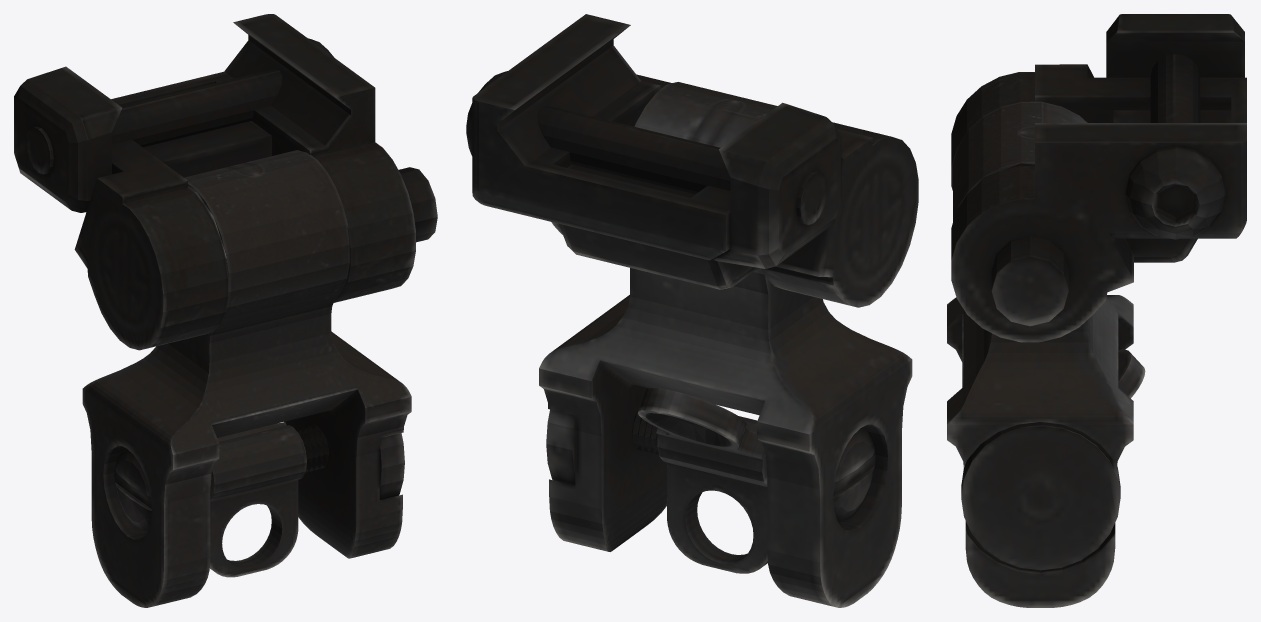
3 views of the same model, side by side, from view 1: azimuth 30°, elevation 25°; view 2: azimuth 150°, elevation 25°; view 3: azimuth 270°, elevation 25° (orthographic). The views are drawn at different scales.
Visible parts, largest first — view 1: TW_5fc0fa957283c4046c58147e_PZ_Import; view 2: TW_5fc0fa957283c4046c58147e_PZ_Import; view 3: TW_5fc0fa957283c4046c58147e_PZ_Import.
Boxes of the visible parts, x1,y1,x2,y2 form: TW_5fc0fa957283c4046c58147e_PZ_Import: (14, 14, 437, 607); TW_5fc0fa957283c4046c58147e_PZ_Import: (466, 14, 918, 607); TW_5fc0fa957283c4046c58147e_PZ_Import: (947, 14, 1246, 607).
Size of the model in its own units: 0.0186 by 0.0151 by 0.0262.
Materials: 1 (1 with a texture image).
